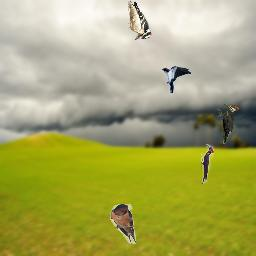Swallow: (110, 204, 136, 244), (162, 66, 191, 93)
Woodpecker: (128, 0, 152, 40), (217, 104, 239, 144), (201, 144, 214, 184)
